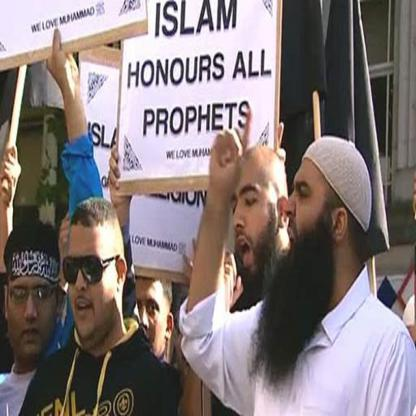face: (288, 145, 332, 277), (234, 160, 278, 285), (69, 228, 117, 336), (8, 270, 59, 354), (132, 276, 165, 354)
